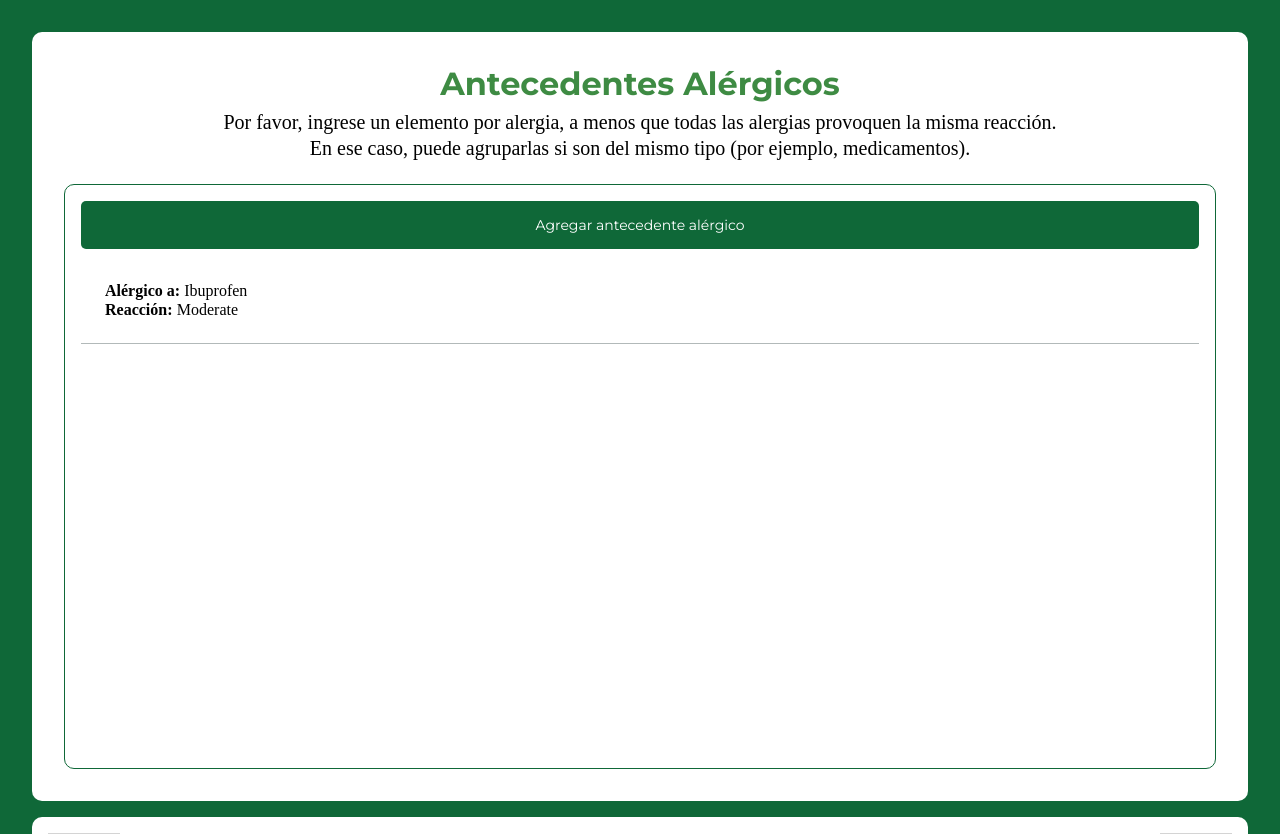
Test: StudentAllergicHistory Component Tests › opens new form on button click
Expected: the text "Agregar antecedente alérgico" is shown, [535,216,745,234]
Click the button "Agregar antecedente alérgico" at (640, 225), box [81,201,1199,249]
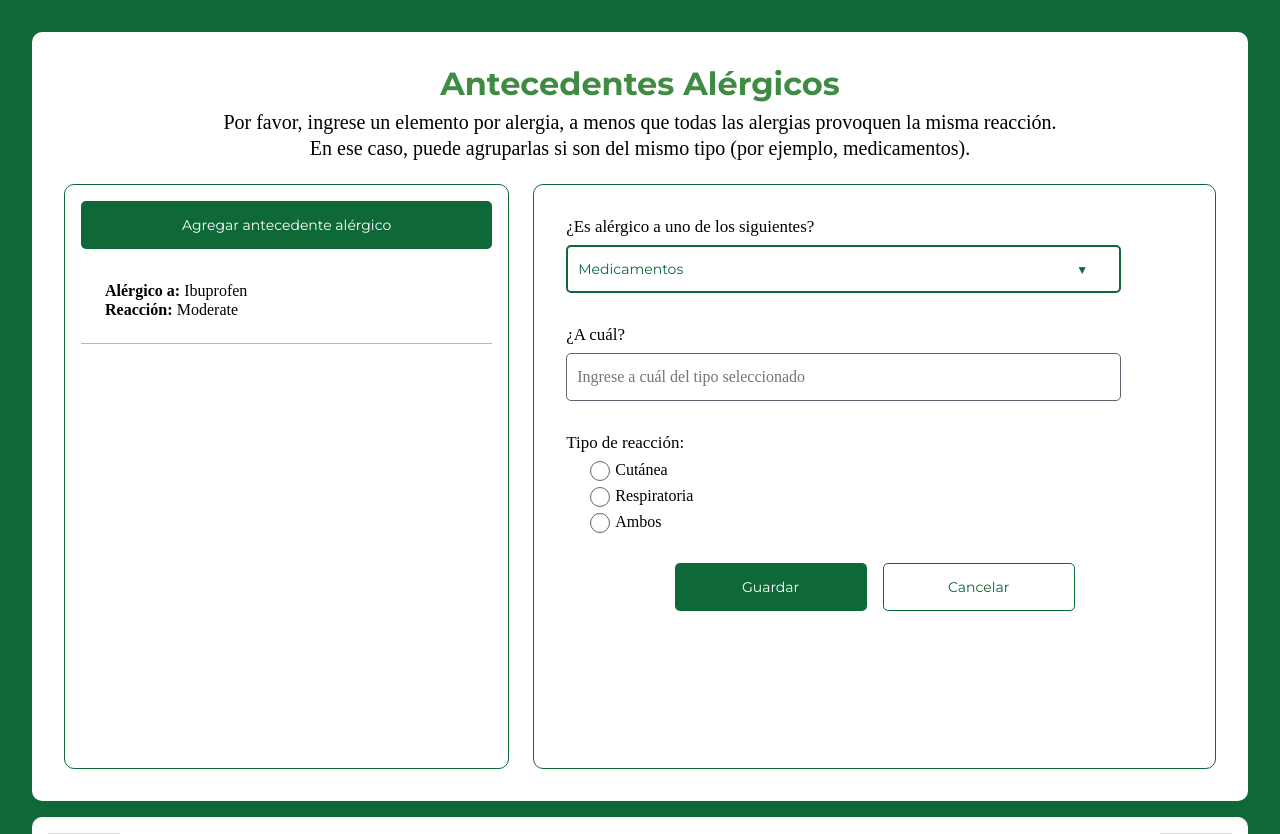
Expected: the text "Guardar" is shown, [742,578,799,596]
